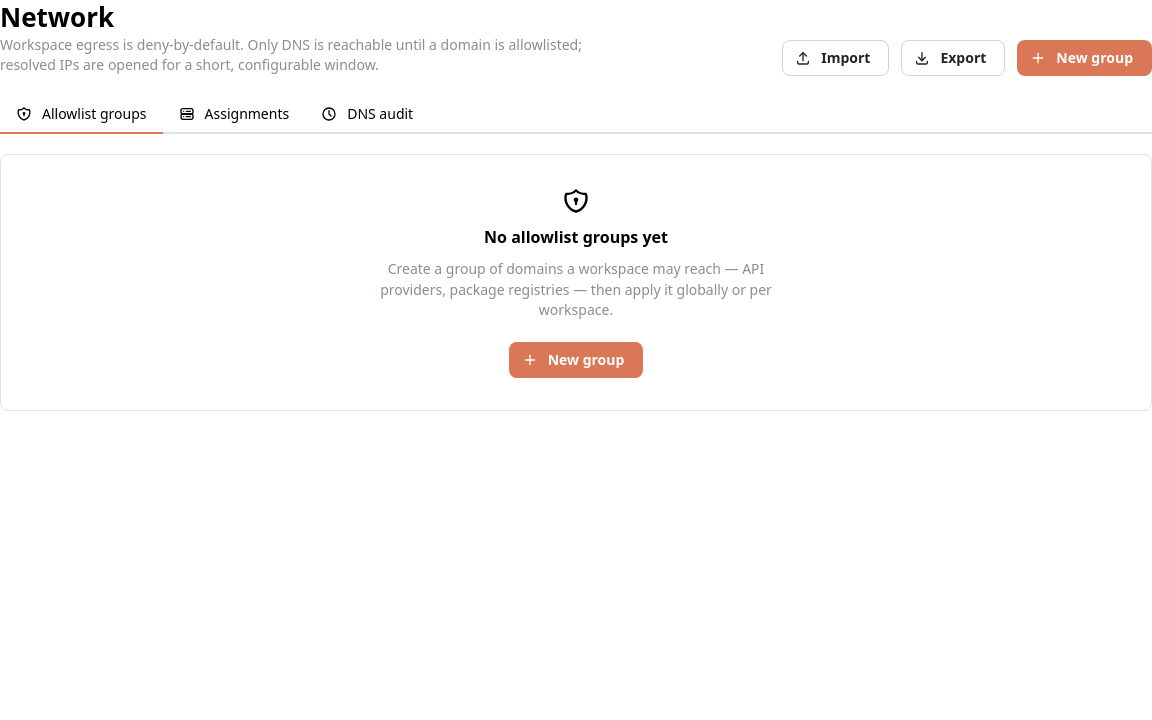
Test: NetworkView › opens the editor from New group
This screenshot has width=1152, height=720.
Step 1. Click the 1st button "New group" → point(1085, 58), box [1017, 40, 1151, 76]
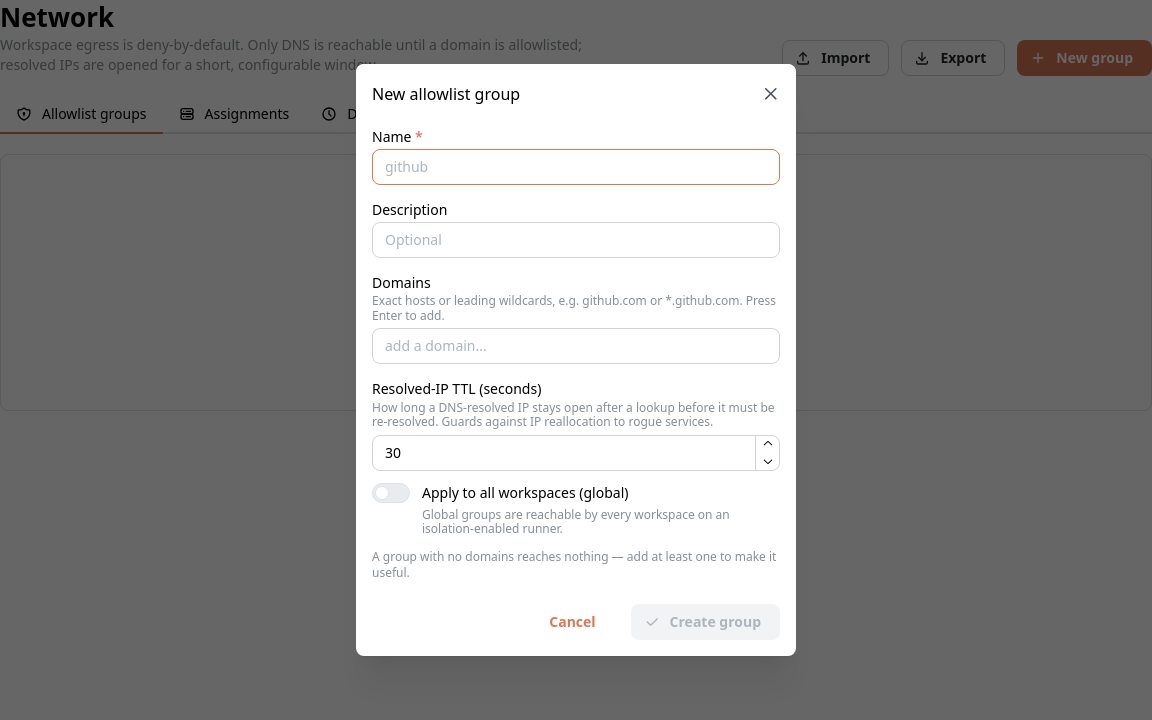
Expected: the dialog "New allowlist group" is shown, [356, 64, 796, 656]
